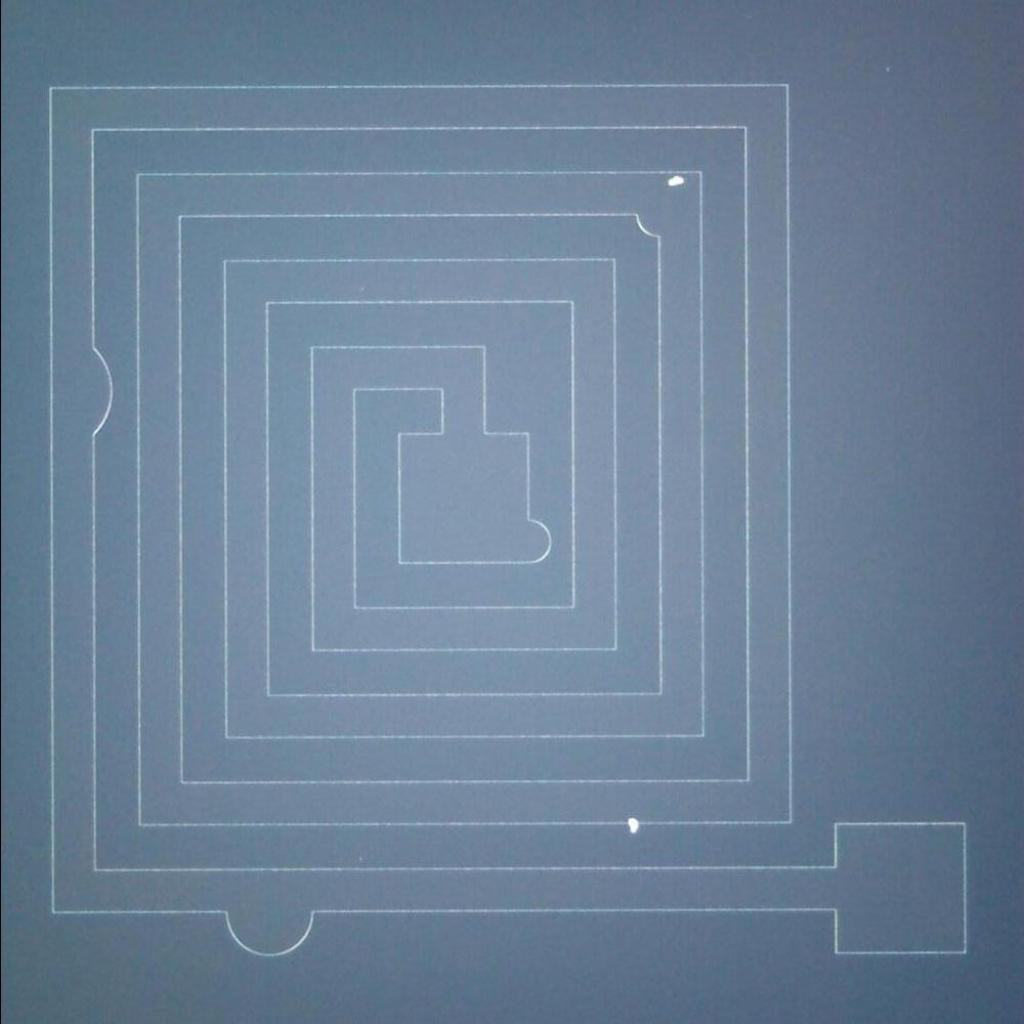curve circuit: (209, 898, 319, 962), (79, 337, 123, 447), (516, 509, 558, 568), (620, 204, 667, 252)
spot: (616, 810, 645, 837), (662, 171, 689, 194)
